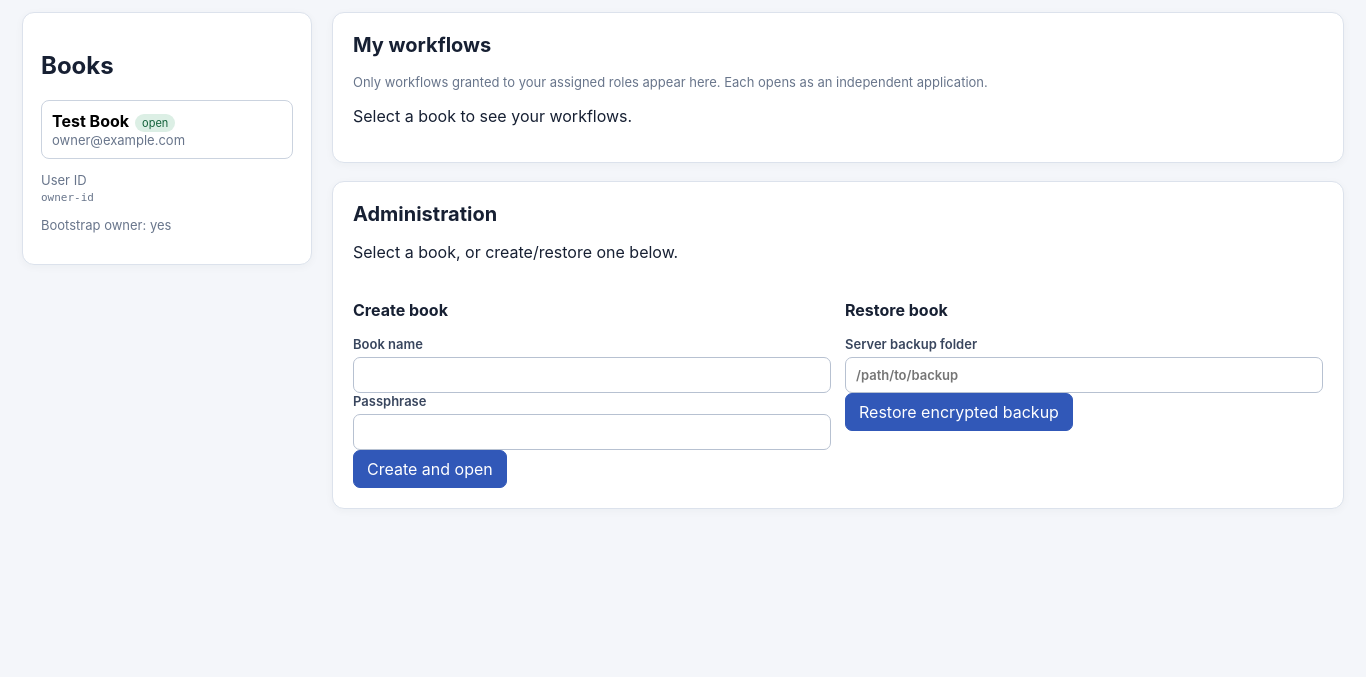
Test case: FPA application shell › keeps owner administration separate from role-scoped My workflows
Click the button "Test Book open owner@example.com".
click(167, 129)  # box [41,100,293,159]
(page scrolled)
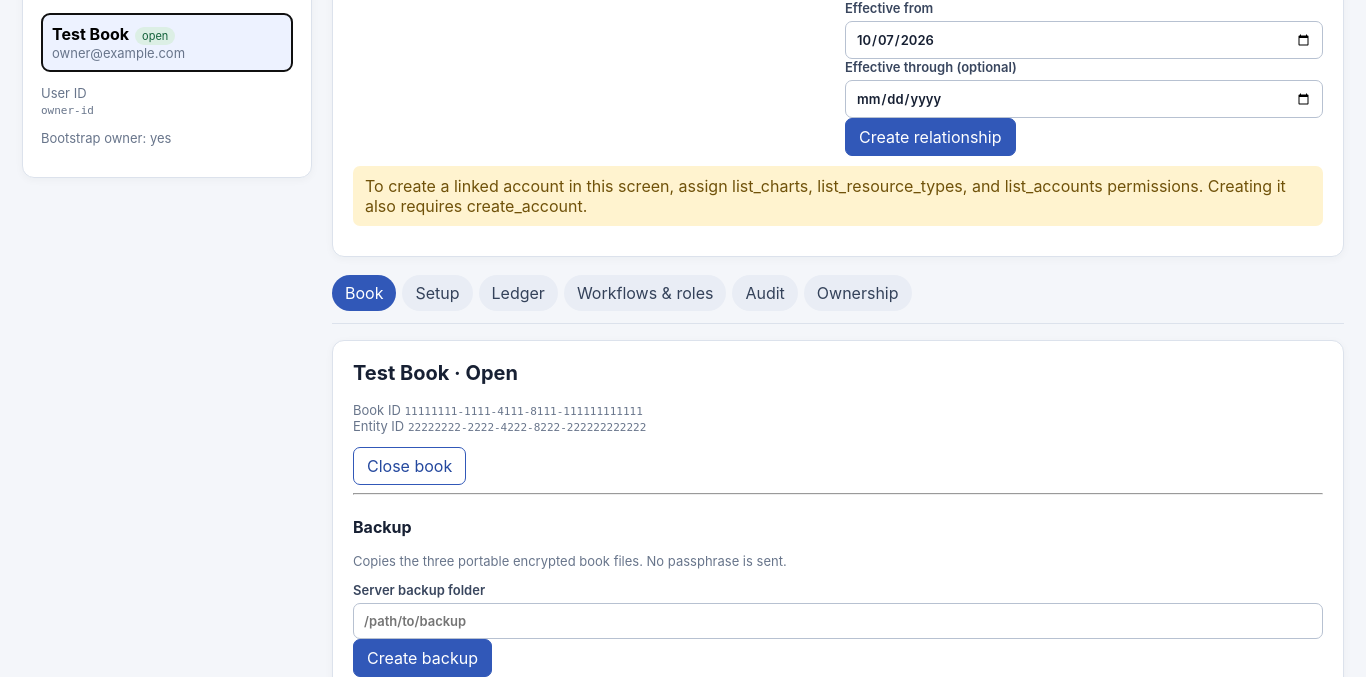
Click the button "Workflows & roles".
click(645, 293)  # box [564,275,726,311]
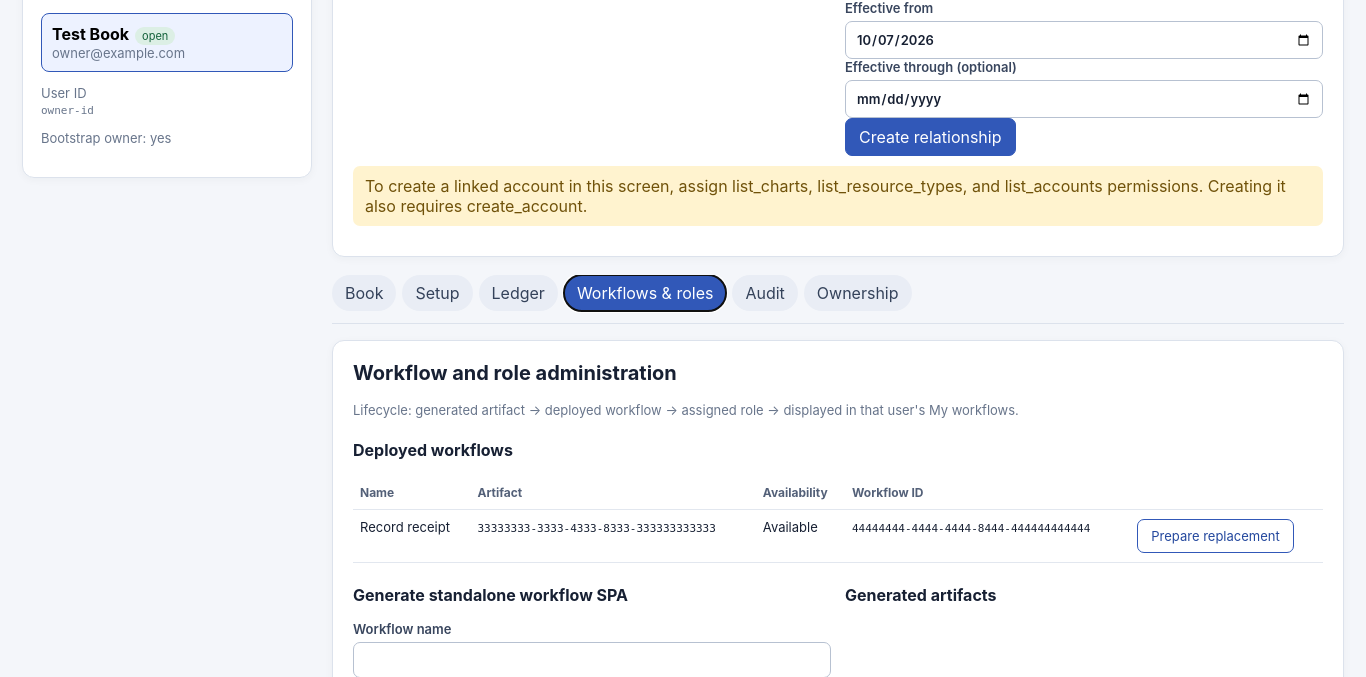
Expected: the text "Record receipt" is shown, [353,509,470,562]
